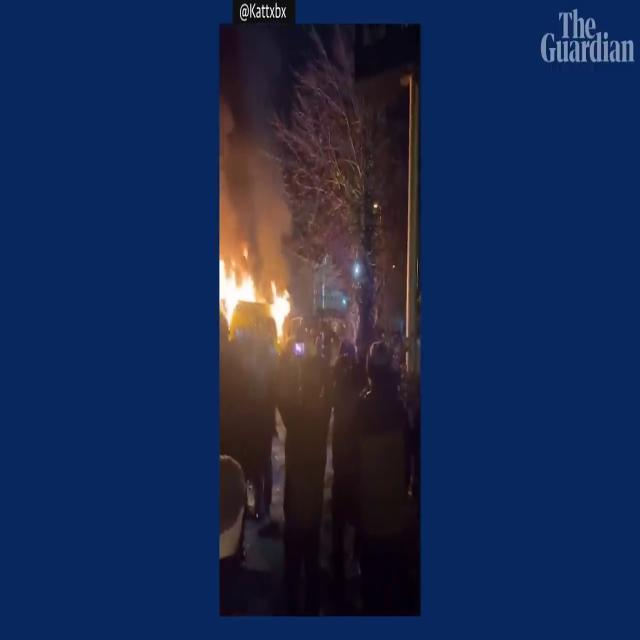Fire: (219, 236, 294, 342), (268, 274, 294, 340)
Smoke: (219, 19, 294, 250)
